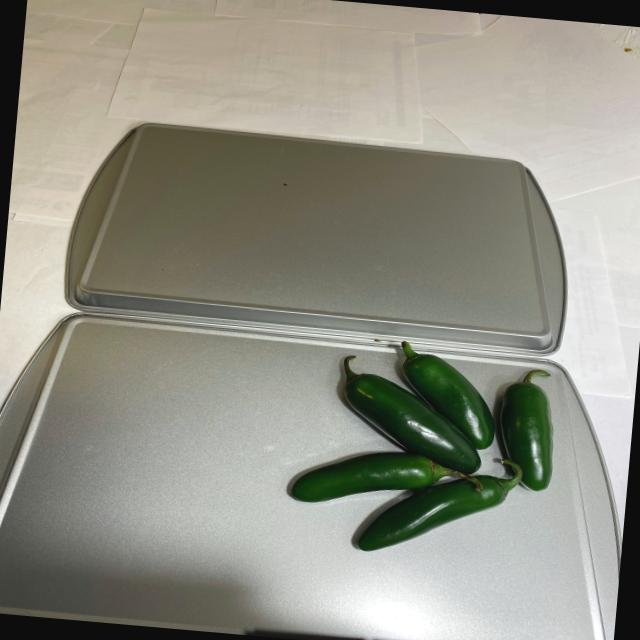chilli: (274, 330, 562, 577)
